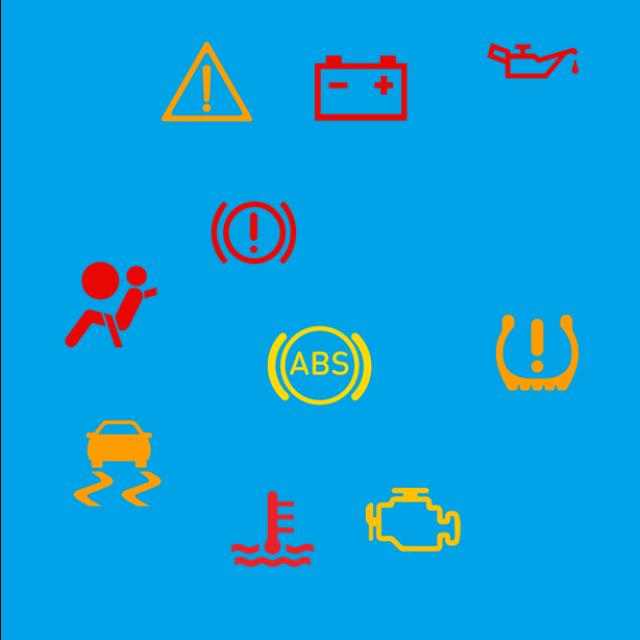Anti Lock Braking System: (262, 308, 376, 422)
Braking System Issue: (196, 176, 310, 290)
Charging System Issue: (303, 31, 417, 145)
Check Engine: (355, 462, 469, 576)
Electronic Stability Problem -ESP-: (59, 406, 173, 520)
Engine Overheating Warning Light: (214, 472, 328, 586)
Low Engine Oil Warning Light: (475, 4, 589, 118)
Low Tire Pressure Warning Light: (479, 296, 594, 410)
Master warning light: (149, 25, 263, 139)
SRS-Airbag: (53, 248, 167, 362)
